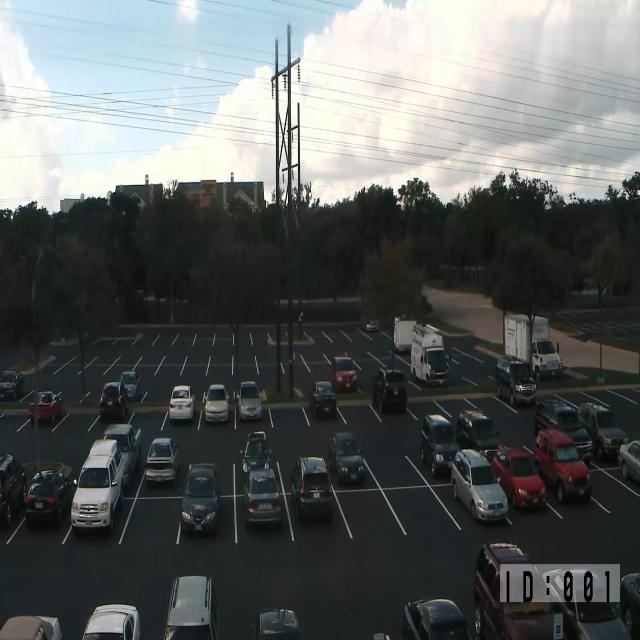car: (473, 542, 632, 640), (71, 438, 125, 534), (534, 428, 592, 504), (451, 448, 508, 522), (534, 398, 593, 464), (492, 445, 546, 510), (164, 575, 218, 639), (577, 401, 628, 461), (403, 598, 473, 640), (180, 462, 220, 534), (290, 455, 333, 521), (25, 468, 72, 526), (563, 601, 632, 639), (420, 413, 460, 478), (102, 424, 142, 486), (456, 408, 501, 462), (242, 467, 282, 526), (82, 604, 141, 640), (495, 355, 536, 406), (327, 432, 365, 486), (0, 453, 26, 527), (250, 608, 303, 640), (372, 366, 407, 414), (144, 437, 178, 484), (0, 615, 62, 640), (240, 430, 272, 478), (532, 338, 563, 380), (620, 572, 640, 637), (28, 390, 63, 424), (99, 381, 129, 420), (308, 380, 337, 418), (330, 355, 358, 393), (168, 385, 196, 422), (237, 380, 262, 421), (204, 383, 229, 422), (618, 438, 640, 482), (0, 369, 25, 401), (119, 370, 140, 400), (366, 319, 379, 332), (373, 632, 390, 640)
